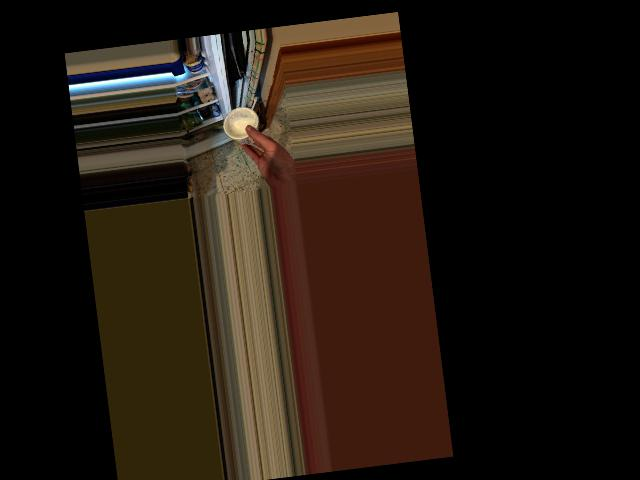cotage: (225, 103, 265, 150)
